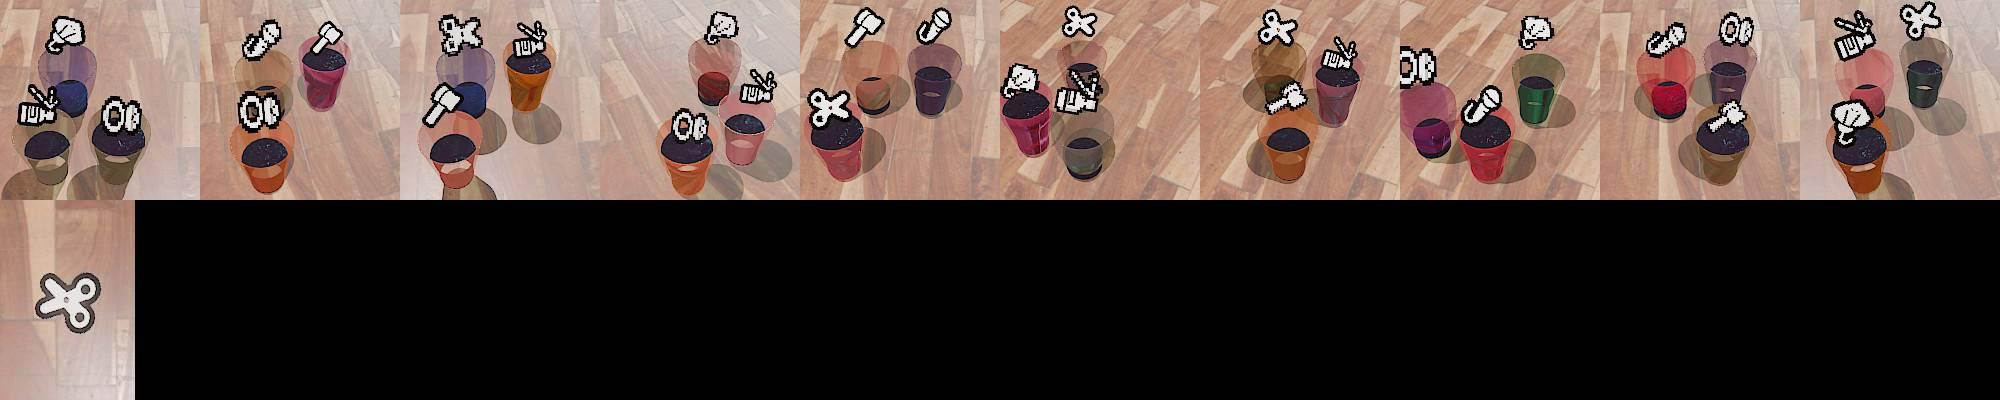icon: (33, 270, 103, 334), (1056, 62, 1102, 116), (1832, 10, 1876, 61), (1830, 98, 1874, 150), (15, 82, 60, 126), (423, 80, 466, 127), (237, 88, 282, 131), (439, 13, 482, 56), (241, 19, 284, 61), (807, 88, 852, 129), (98, 96, 143, 136), (843, 6, 885, 48), (1462, 84, 1504, 126), (1399, 46, 1439, 89), (1899, 1, 1943, 39), (1265, 79, 1311, 115), (46, 15, 85, 55), (737, 68, 778, 106), (1258, 8, 1297, 46), (1645, 22, 1687, 57), (670, 106, 708, 144), (916, 6, 953, 46), (1004, 62, 1042, 98), (1060, 5, 1099, 39), (1703, 99, 1746, 130), (1718, 11, 1755, 47), (309, 20, 344, 57), (1320, 37, 1358, 71), (514, 19, 547, 59), (1518, 15, 1554, 51), (705, 10, 739, 46)
